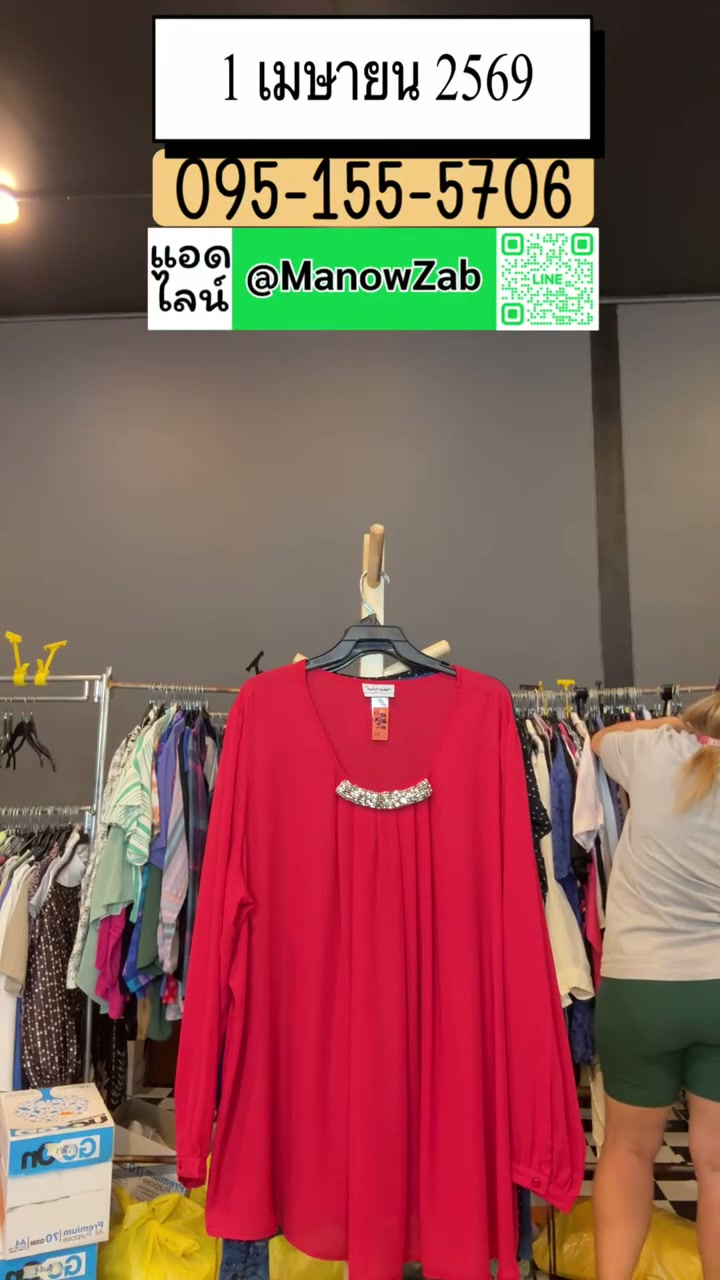display_shirt: (175, 664, 584, 1279)
